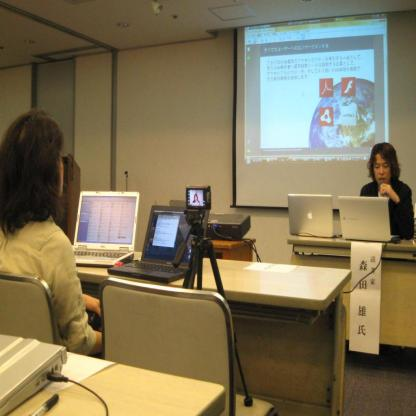board: (107, 207, 210, 283), (72, 192, 138, 270), (289, 191, 348, 254), (338, 197, 399, 241)
